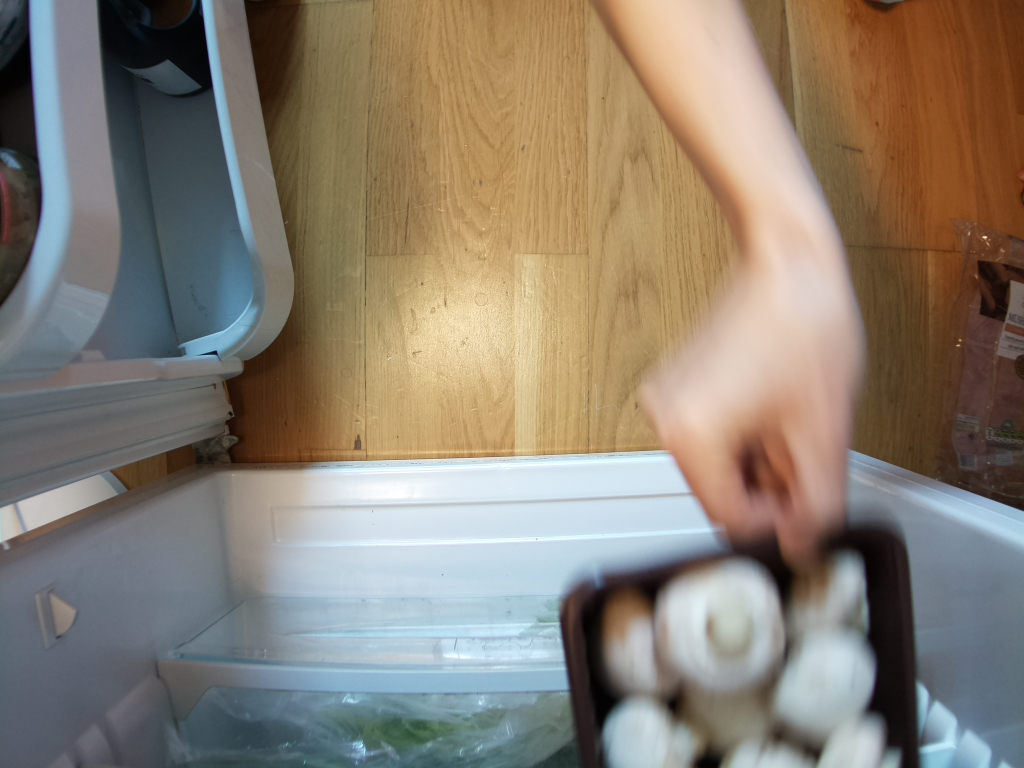mushrooms: (562, 511, 925, 768)
